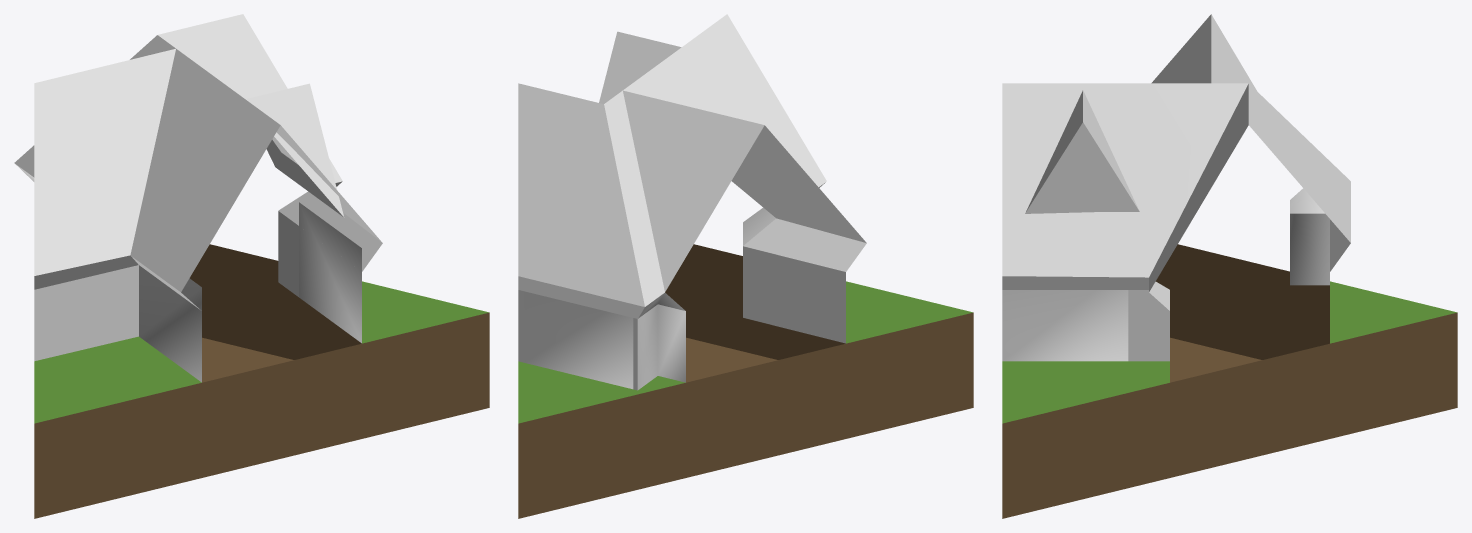
The model's file is Casa_Interseccio_EEE.fbx.
3 renders of one model, left to right at view 1: azimuth 30°, elevation 25°; view 2: azimuth 150°, elevation 25°; view 3: azimuth 270°, elevation 25°, orthographic.
Parts seen in each view (by area): view 1: Casa_Interseccio_EEE, DetallParet.013, DetallTeulada.007, DetallParet.011; view 2: Casa_Interseccio_EEE, DetallParet.010, DetallTeulada.007, DetallParet.011; view 3: Casa_Interseccio_EEE, DetallParet.013, DetallTeulada.007.
Part boxes in pixels (x1,y1,x2,y2): Casa_Interseccio_EEE: (14,14,489,518); DetallParet.013: (299,202,361,343); DetallTeulada.007: (245,83,344,217); DetallParet.011: (139,265,201,382); Casa_Interseccio_EEE: (518,14,973,518); DetallParet.010: (524,291,633,389); DetallTeulada.007: (599,31,681,103); DetallParet.011: (743,207,775,245); Casa_Interseccio_EEE: (1002,14,1457,518); DetallParet.013: (1002,290,1128,361); DetallTeulada.007: (1025,90,1139,213).
Bounding box in the file's own units: 100 × 70 × 86.61.
